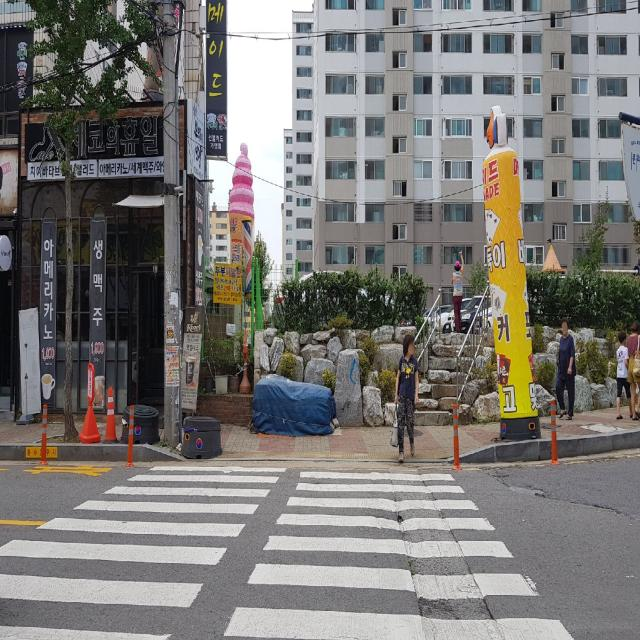횡단보도: (0, 463, 575, 640)
